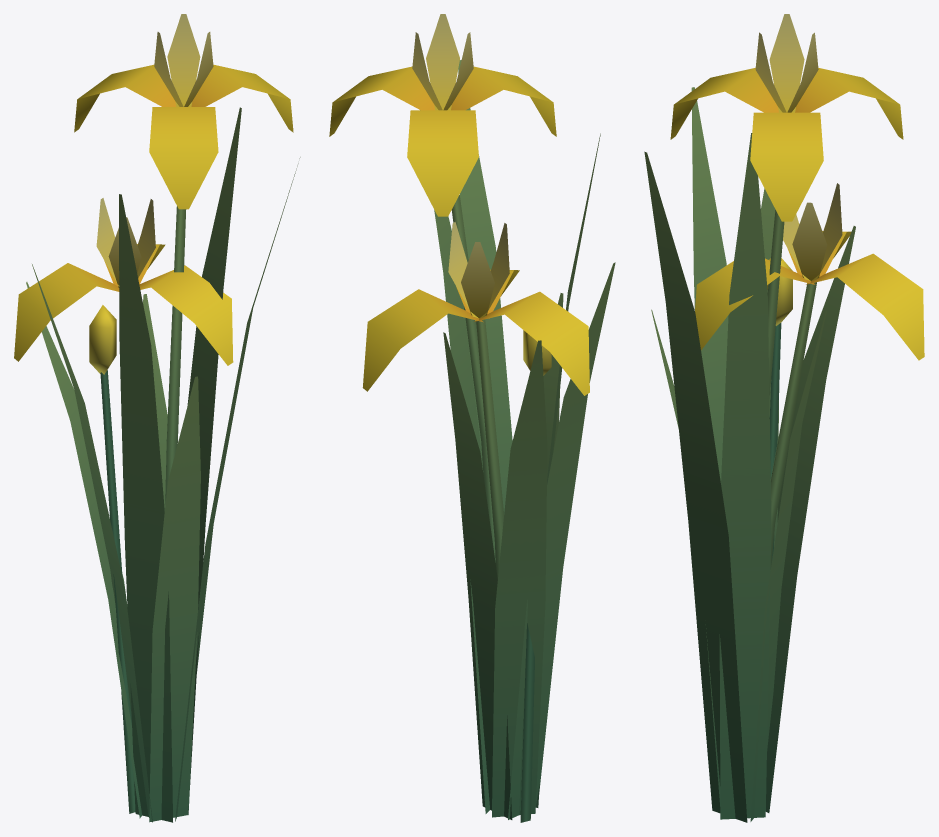
Rendered from flagiris.glb.
3 renders of one model, left to right at view 1: azimuth 30°, elevation 25°; view 2: azimuth 150°, elevation 25°; view 3: azimuth 270°, elevation 25°, orthographic. The views are drawn at different scales.
Parts seen in each view (by area): view 1: flagiris; view 2: flagiris; view 3: flagiris.
Part boxes in pixels (left/top/right/bottom): flagiris: left=14, top=14, right=300, bottom=822; flagiris: left=329, top=14, right=615, bottom=822; flagiris: left=644, top=14, right=924, bottom=822.
Size of the model in its own units: 0.3723 by 1.02 by 0.3197.
